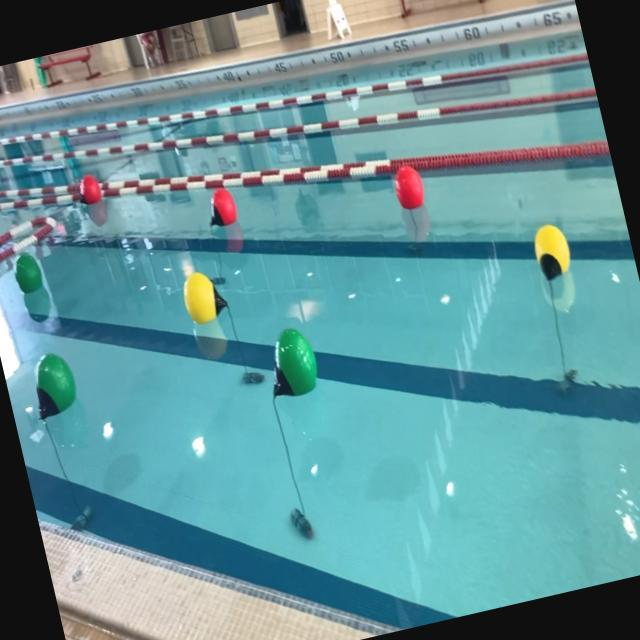buoy: (258, 324, 322, 402), (24, 346, 82, 421), (176, 264, 232, 329), (527, 218, 576, 284), (390, 160, 428, 213), (9, 248, 46, 296), (202, 184, 240, 230), (72, 171, 104, 208)
